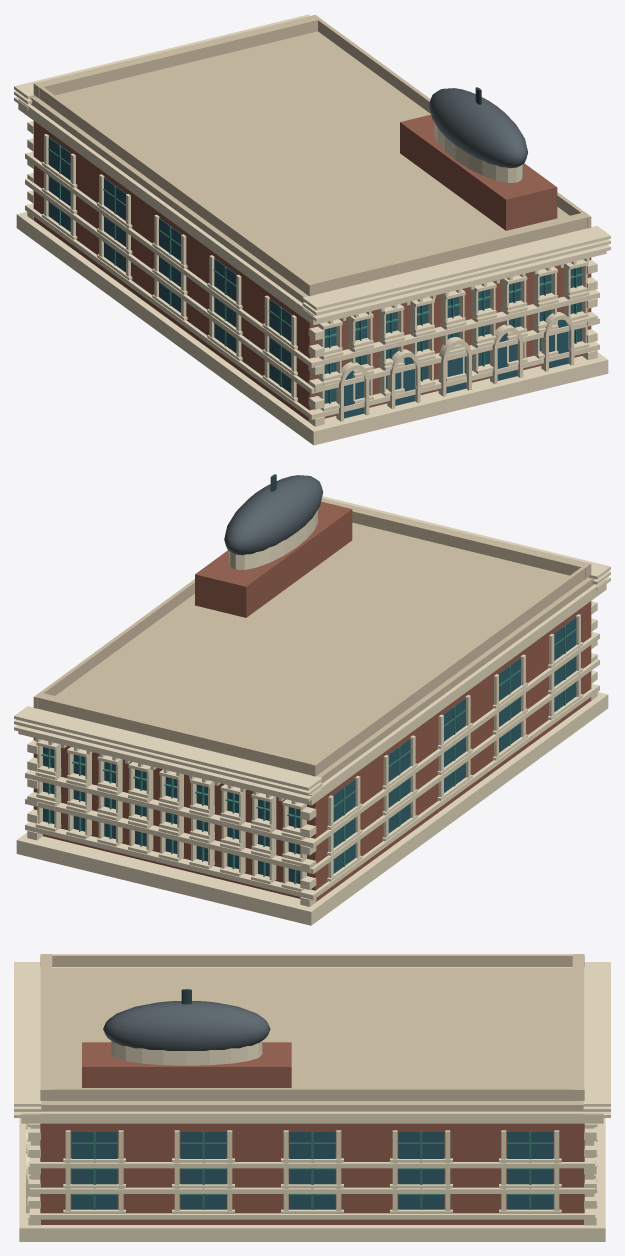
File: russian-consulate.glb
3 views of the same model, one above another, from view 1: azimuth 30°, elevation 25°; view 2: azimuth 150°, elevation 25°; view 3: azimuth 270°, elevation 25° (orthographic).
Parts seen in each view (by area): view 1: russian-consulate; view 2: russian-consulate; view 3: russian-consulate.
Part boxes in pixels (box(x1,y1,x2,y2)): russian-consulate: box(14, 14, 610, 445); russian-consulate: box(14, 474, 610, 925); russian-consulate: box(14, 954, 610, 1241).
Size of the model in its own units: 22.45 by 17 by 39.92.
